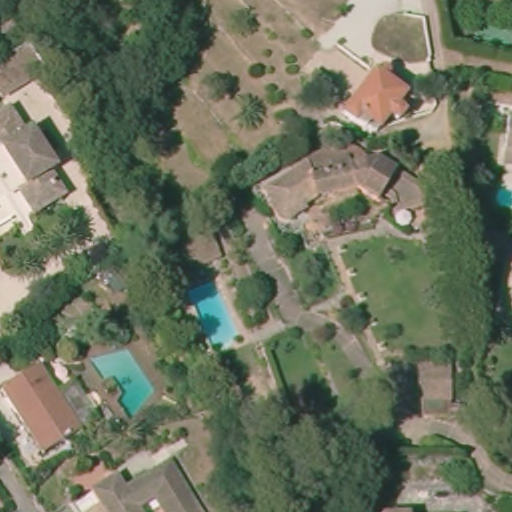pool: (88, 342, 155, 422), (182, 282, 249, 352)
